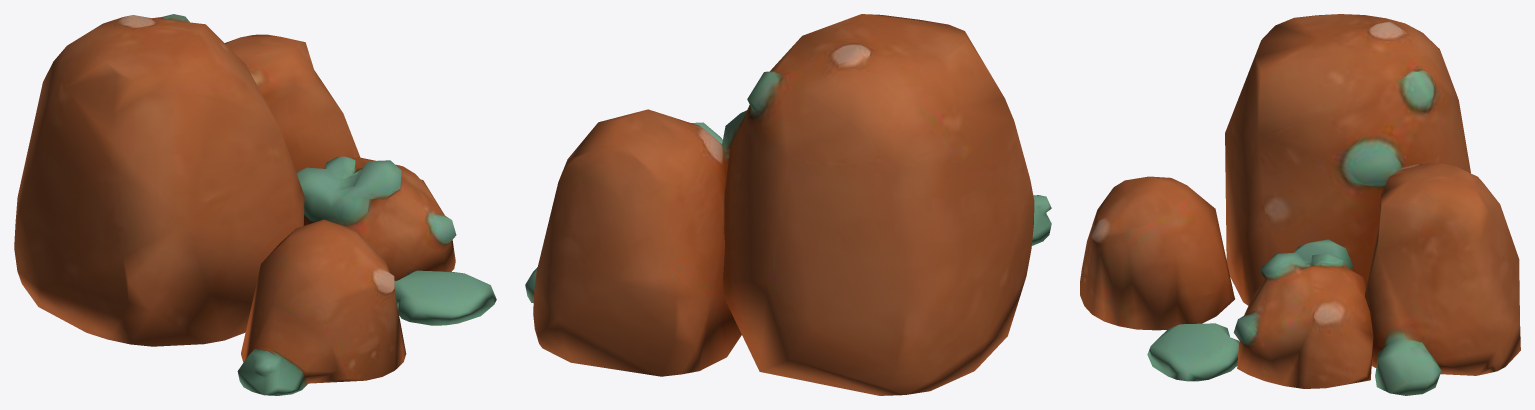
Rendered from boulders.glb.
3 views of the same model, side by side, from view 1: azimuth 30°, elevation 25°; view 2: azimuth 150°, elevation 25°; view 3: azimuth 270°, elevation 25° (orthographic). The views are drawn at different scales.
Visible parts, largest first — view 1: tripo_node_0a15e383-734b-4417-a24d-bc391640cffd; view 2: tripo_node_0a15e383-734b-4417-a24d-bc391640cffd; view 3: tripo_node_0a15e383-734b-4417-a24d-bc391640cffd.
Boxes of the visible parts, bbox=[...] form: tripo_node_0a15e383-734b-4417-a24d-bc391640cffd: bbox=[14, 14, 496, 395]; tripo_node_0a15e383-734b-4417-a24d-bc391640cffd: bbox=[525, 14, 1051, 395]; tripo_node_0a15e383-734b-4417-a24d-bc391640cffd: bbox=[1080, 14, 1520, 395].
Size of the model in its own units: 0.9121 by 0.627 by 0.998.
1 material, 1 textured.
